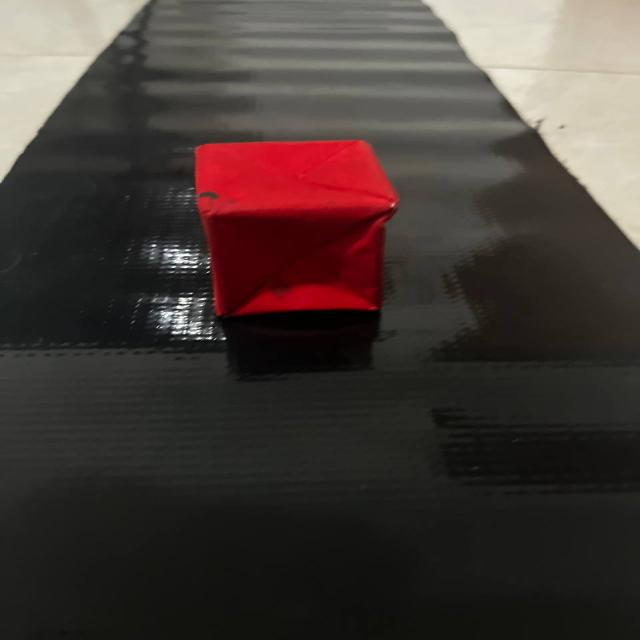Rojo: (172, 133, 414, 333)
